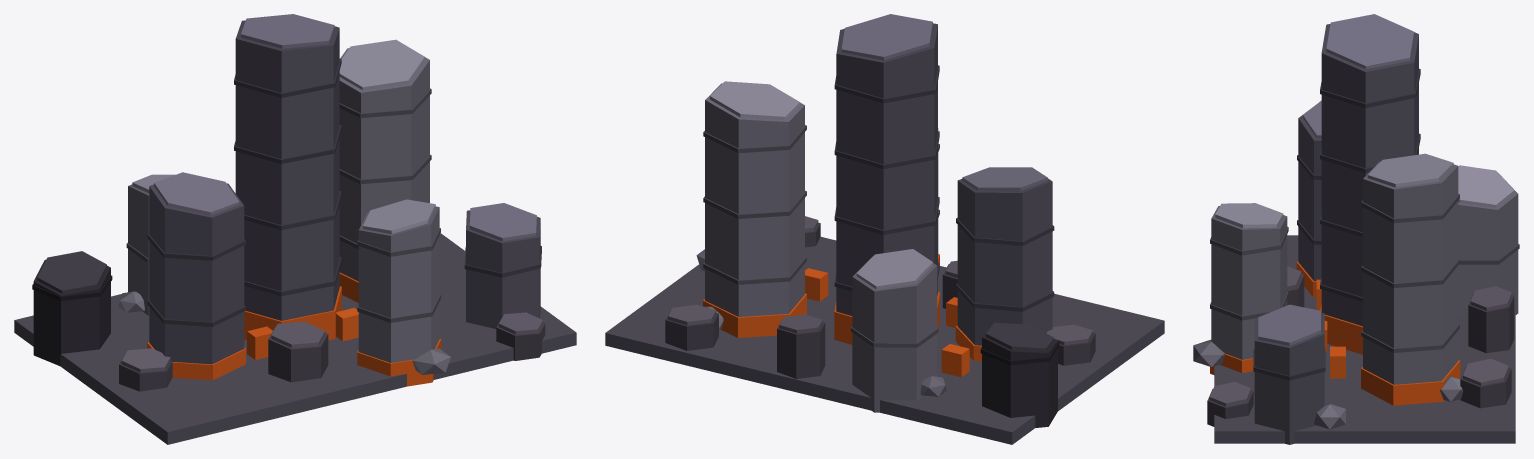
Rendered from Decor_Volcano_Basalt.fbx.
The picture shows the model from 3 angles, left to right: view 1: azimuth 30°, elevation 25°; view 2: azimuth 150°, elevation 25°; view 3: azimuth 270°, elevation 25°; orthographic projection.
Parts seen in each view (by area): view 1: Basalt_Body; view 2: Basalt_Body; view 3: Basalt_Body.
Boxes of the visible parts, x1,y1,x2,y2 form: Basalt_Body: (14, 14, 576, 444); Basalt_Body: (605, 14, 1164, 444); Basalt_Body: (1193, 14, 1519, 444).
Size of the model in its own units: 16.9 by 12 by 11.5.
